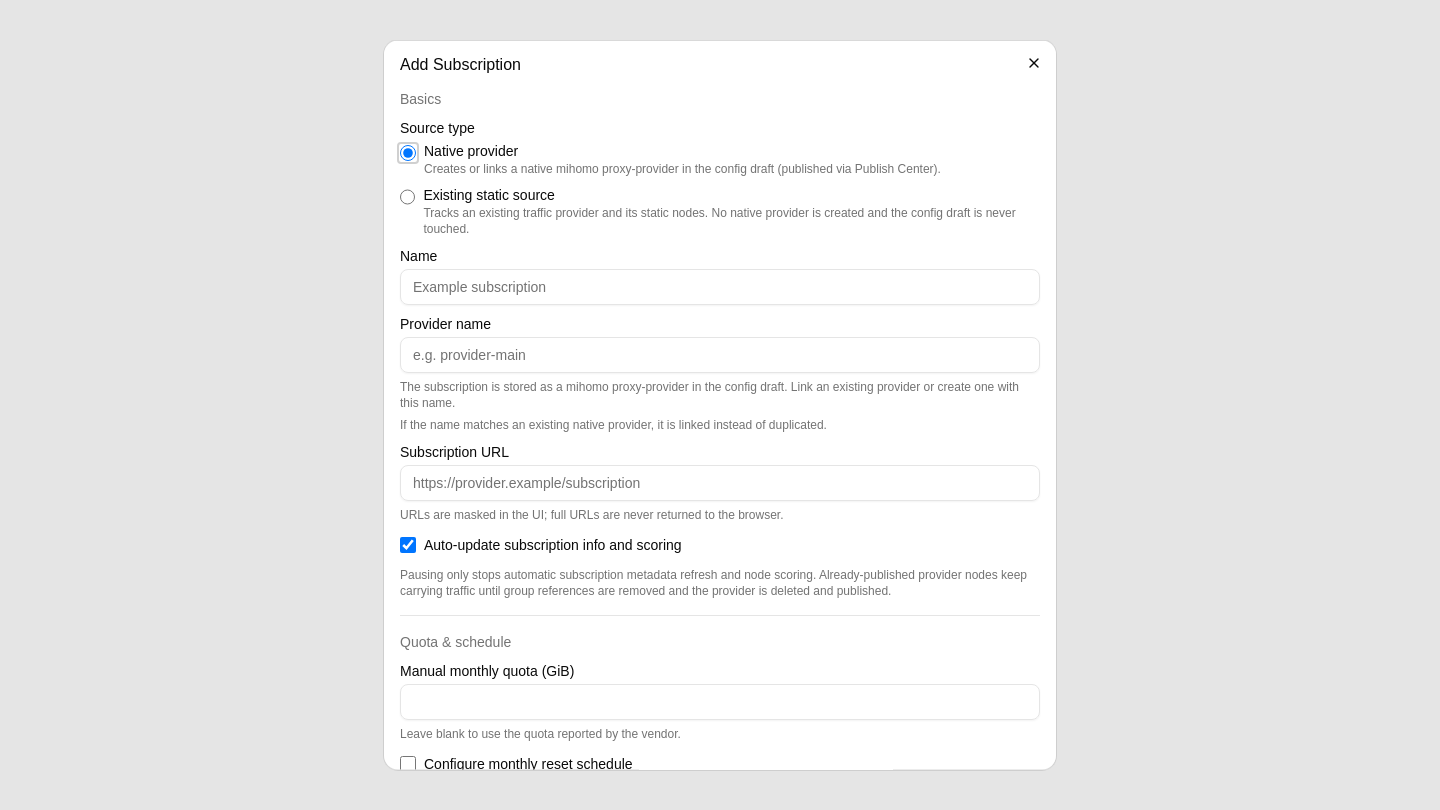
SubscriptionForm › requires a URL when the provider does not exist yet
Type "New subscription" into the field labelled "Name".
click(720, 286); type("New subscription")  # box [400,268,1040,304]
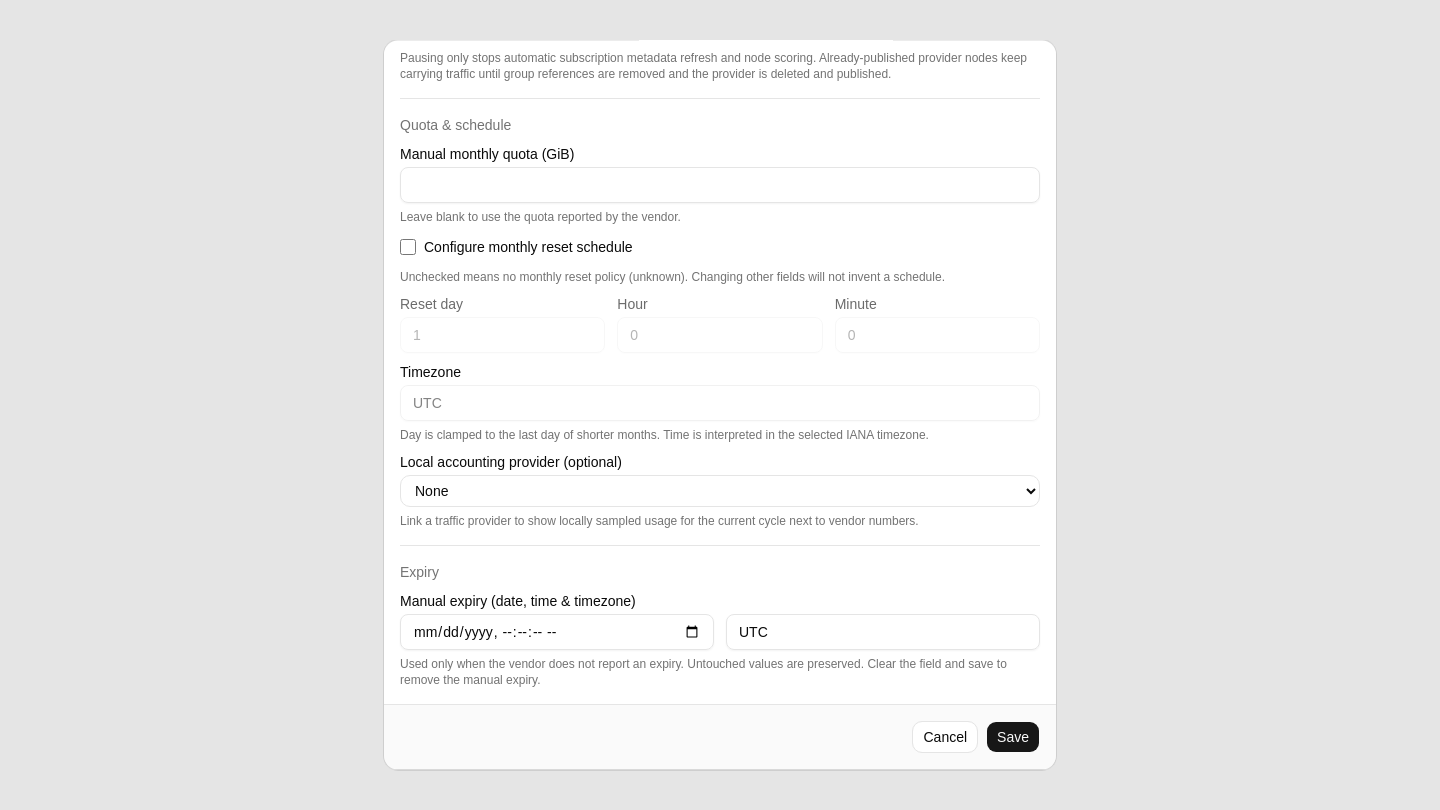
Click the button "Save".
click(1013, 738)  # box [986,722,1040,754]
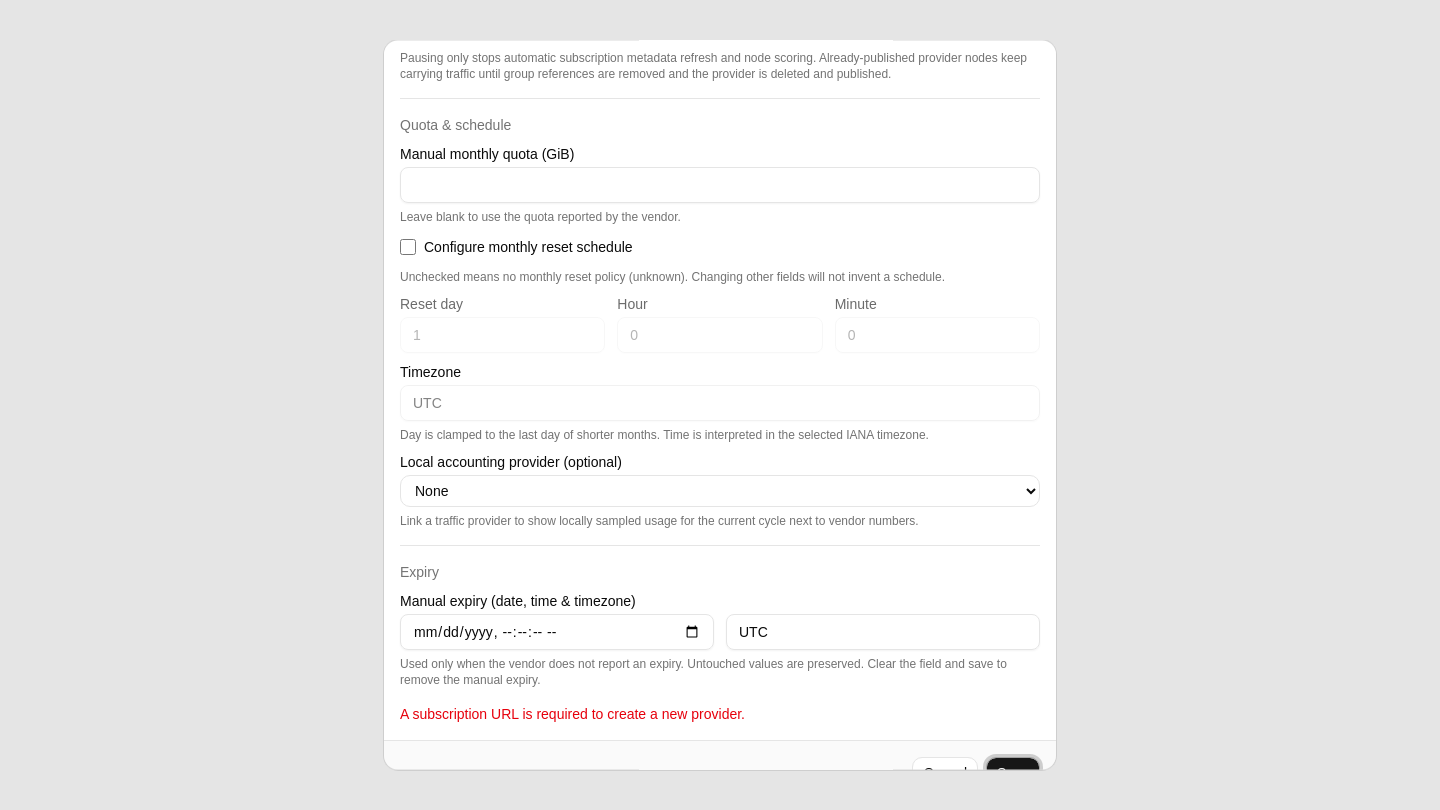
Expected: the text "A subscription URL is required to create a new provider." is shown, [400,706,745,722]
